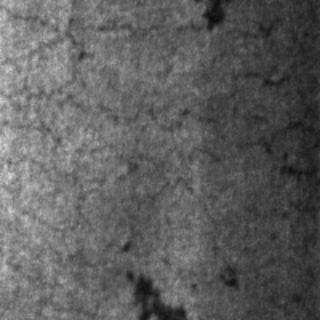crazing: (6, 4, 174, 216), (218, 66, 316, 184), (226, 14, 314, 88)
patches: (123, 270, 187, 318)
